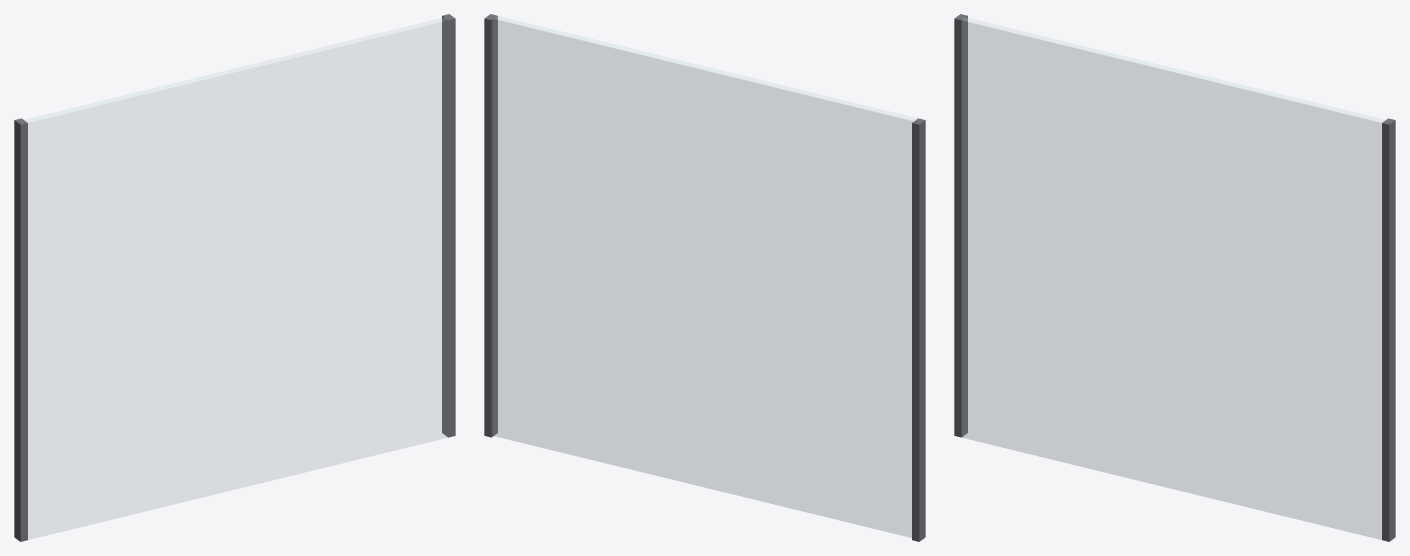
File: balustrade_glass_120.glb
3 views of the same model, side by side, from view 1: azimuth 30°, elevation 25°; view 2: azimuth 150°, elevation 25°; view 3: azimuth 330°, elevation 25° (orthographic).
Visible parts, largest first — view 1: balustrade_glass_120; view 2: balustrade_glass_120; view 3: balustrade_glass_120.
Part boxes in pixels (box(x1,y1,x2,y2)): balustrade_glass_120: box(14, 14, 455, 541); balustrade_glass_120: box(484, 14, 925, 541); balustrade_glass_120: box(954, 14, 1395, 541).
Size of what is drawn, in the model's own units: 1.2 by 1.1 by 0.03.
